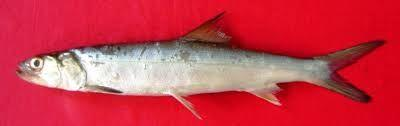Tenpounder: (17, 13, 389, 117)
